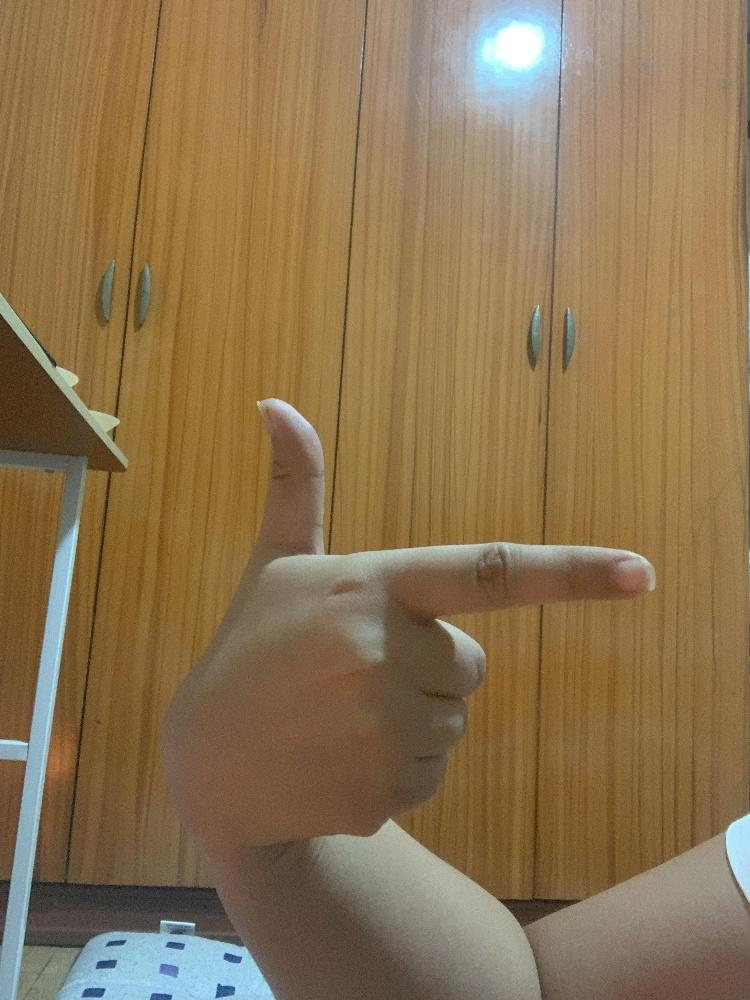g: (151, 391, 656, 838)
